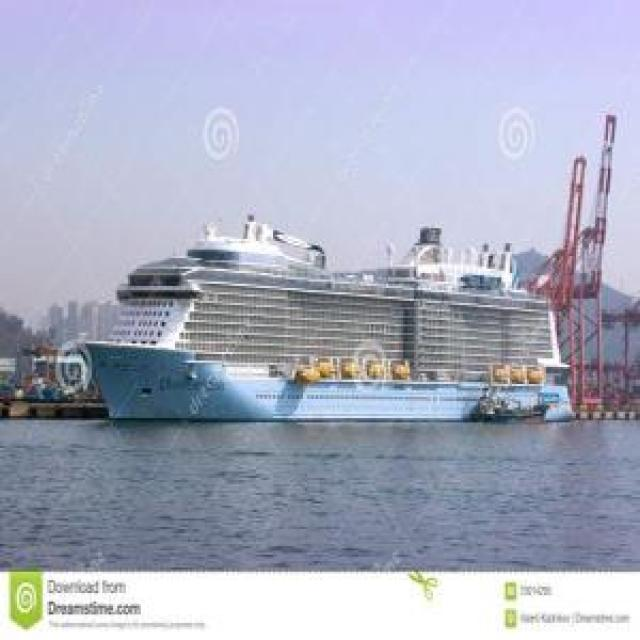passenger ship: (79, 213, 585, 427)
